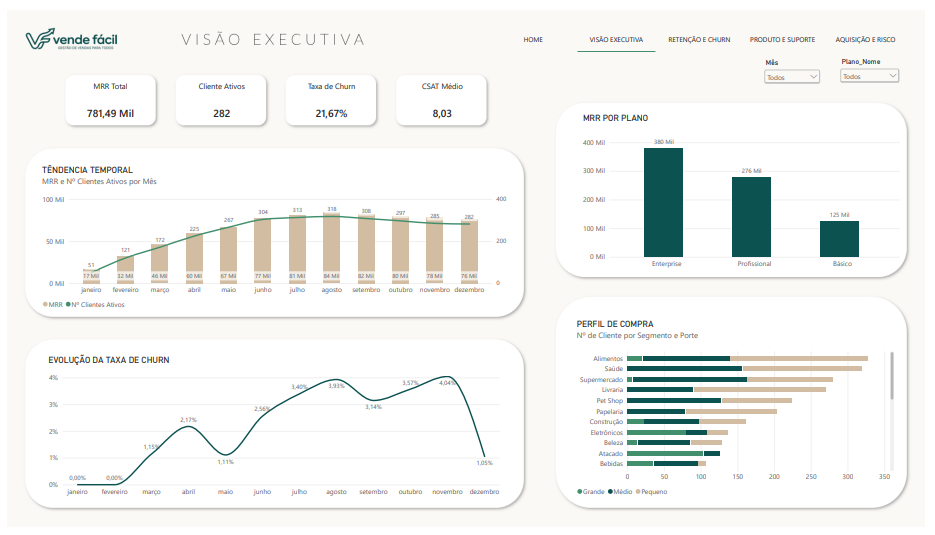

What the dashboard file says about the page in this screenshot:
{"tool":"powerbi","page":{"name":"VISÃO EXECUTIVA","canvas":[1920,1080],"ordinal":1},"visuals":[{"type":"cardVisual","title":"Cliente Ativos","fields":{"Data":["Dados_Brutos.Nº Clientes Ativos"]},"box":[355.3,148.1,187.8,92.6],"z":0},{"type":"cardVisual","title":"Taxa de Churn","fields":{"Data":["Dados_Brutos.Taxa de Churn"]},"box":[583.7,148.1,190.4,92.6],"z":1000},{"type":"cardVisual","title":"MRR Total","fields":{"Data":["Sum(Dados_Brutos.MRR)"]},"box":[119.3,148.1,194.2,92.6],"z":2000},{"type":"slicer","fields":{"Values":["Dados_Brutos.Data_Referencia.Variation.Hierarquia de datas.Mês"]},"box":[1579.9,100.5,126,77.3],"z":3000},{"type":"slicer","fields":{"Values":["dim_plano1.Plano_Nome"]},"box":[1738.5,99.2,133.2,77.3],"z":4000},{"type":"cardVisual","title":"CSAT Médio","fields":{"Data":["Dados_Brutos.CSAT Médio"]},"box":[817.2,148.1,187.8,92.6],"z":5000},{"type":"lineStackedColumnComboChart","title":"TÊNDENCIA TEMPORAL","fields":{"Category":["Dados_Brutos.Data_Referencia.Variation.Hierarquia de datas.Mês"],"Y":["Sum(Dados_Brutos.MRR)"],"Y2":["Dados_Brutos.Nº Clientes Ativos"]},"box":[57.1,309.6,1006.3,335],"z":6000},{"type":"columnChart","title":"MRR POR PLANO","fields":{"Category":["Dados_Brutos.Nome_Plano"],"Y":["Sum(Dados_Brutos.MRR)"]},"box":[1189.1,200.5,695.4,359.1],"z":7000},{"type":"lineChart","title":"EVOLUÇÃO DA TAXA DE CHURN","fields":{"Category":["Dados_Brutos.Data_Referencia.Variation.Hierarquia de datas.Mês"],"Y":["Dados_Brutos.Taxa de Churn"]},"box":[69.8,705.6,980.9,331.2],"z":8000},{"type":"barChart","title":"PERFIL DE COMPRA","fields":{"Category":["dim_cliente2.Segmento"],"Series":["dim_cliente2.Porte"],"Y":["CountNonNull(Dados_Brutos.ID_Cliente)"]},"box":[1176.4,632,695.4,404.8],"z":9000},{"type":"pageNavigator","box":[1017.7,36.8,866.2,50.1],"z":10000}]}

Visuals, with their boxes in screenshot pixels (x1, y1, x2, y2), scaled from the page's 1920x1080 canvas onto the 935x535 screenshot:
"Cliente Ativos" cardVisual: x1=173 y1=73 x2=264 y2=119
"Taxa de Churn" cardVisual: x1=284 y1=73 x2=377 y2=119
"MRR Total" cardVisual: x1=58 y1=73 x2=153 y2=119
slicer - Dados_Brutos.Data_Referencia.Variation.Hierarquia de datas.Mês: x1=769 y1=50 x2=831 y2=88
slicer - dim_plano1.Plano_Nome: x1=847 y1=49 x2=911 y2=87
"CSAT Médio" cardVisual: x1=398 y1=73 x2=489 y2=119
"TÊNDENCIA TEMPORAL" lineStackedColumnComboChart: x1=28 y1=153 x2=518 y2=319
"MRR POR PLANO" columnChart: x1=579 y1=99 x2=918 y2=277
"EVOLUÇÃO DA TAXA DE CHURN" lineChart: x1=34 y1=350 x2=512 y2=514
"PERFIL DE COMPRA" barChart: x1=573 y1=313 x2=912 y2=514
pageNavigator: x1=496 y1=18 x2=917 y2=43
